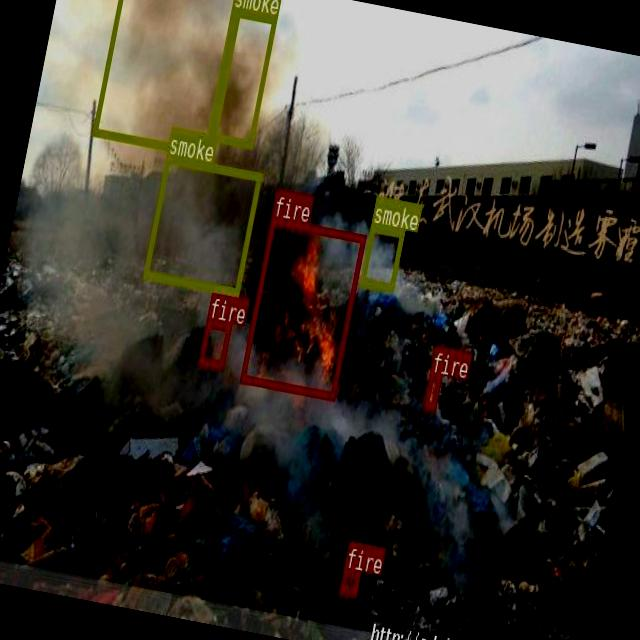fire: (240, 216, 366, 400), (198, 317, 232, 368), (422, 370, 441, 410), (339, 568, 360, 596)
smoke: (91, 0, 245, 156), (142, 154, 262, 296), (206, 6, 276, 146), (359, 222, 404, 290)
